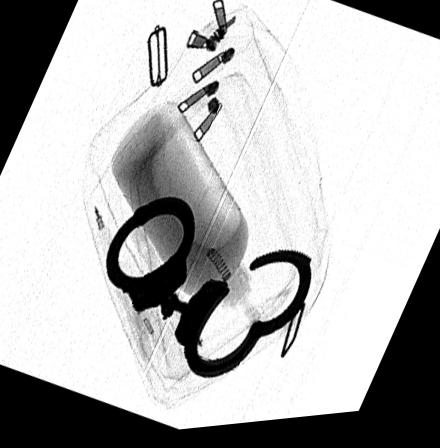HandCuffs: (106, 198, 313, 381)
